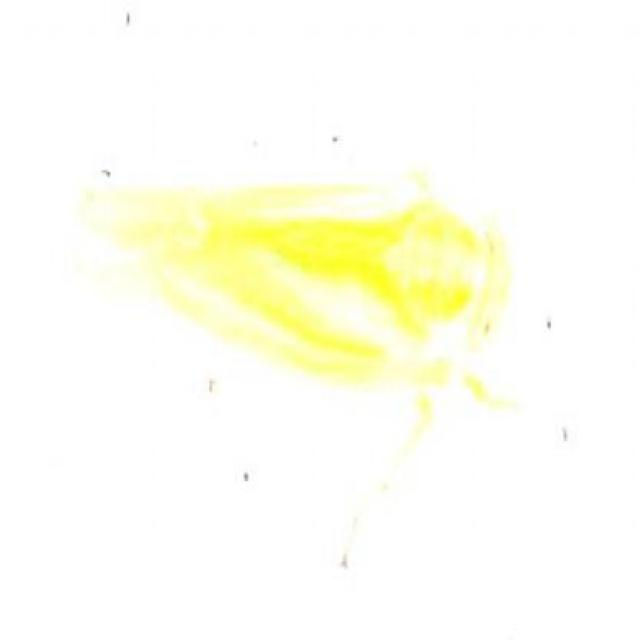green-leafhopper: (72, 194, 520, 395)
